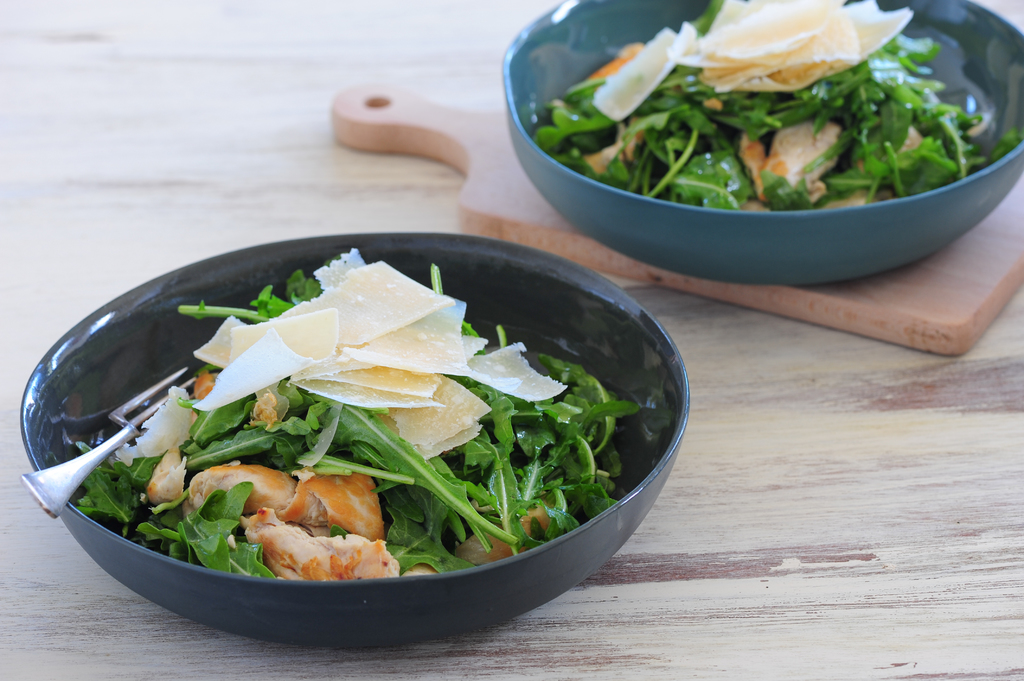salad: (67, 251, 648, 587), (531, 0, 1023, 216)
